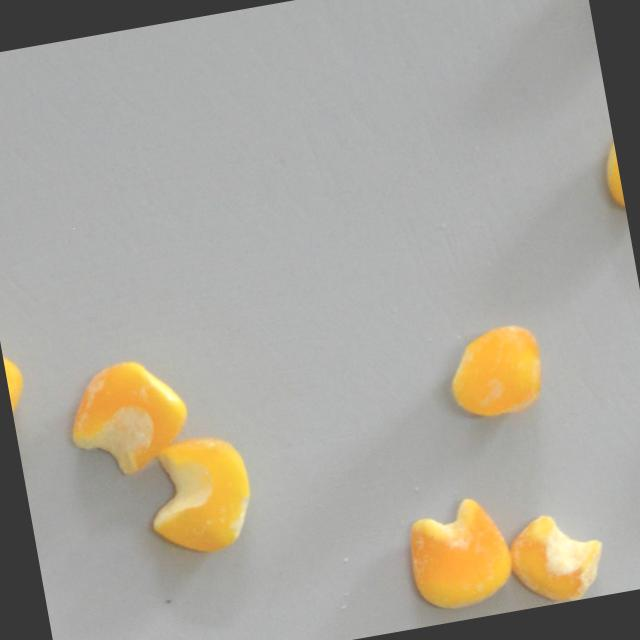no_desgerminado: (0, 334, 38, 439), (590, 123, 627, 222)
pelicula: (56, 349, 198, 485), (133, 428, 264, 564), (396, 488, 523, 623), (435, 316, 552, 431), (498, 503, 613, 611)
